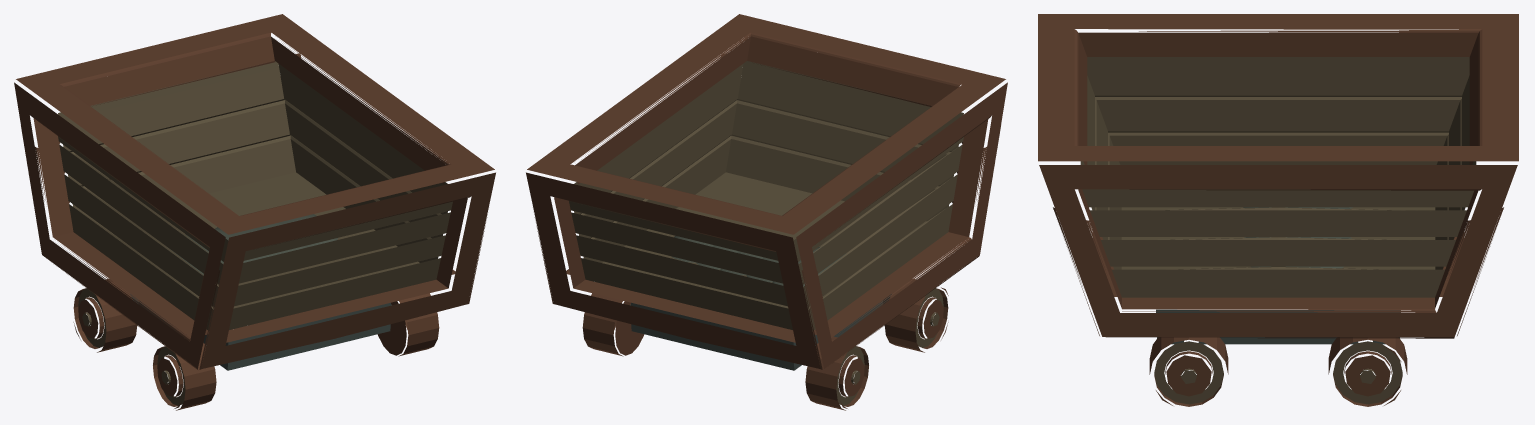
The model's file is drowned-cart.glb.
3 renders of one model, left to right at view 1: azimuth 30°, elevation 25°; view 2: azimuth 150°, elevation 25°; view 3: azimuth 270°, elevation 25°, orthographic. The views are drawn at different scales.
Parts seen in each view (by area): view 1: Surface; view 2: Surface; view 3: Surface.
Part boxes in pixels (x1=…): Surface: x1=14, y1=14, x2=495, y2=410; Surface: x1=526, y1=14, x2=1007, y2=410; Surface: x1=1038, y1=14, x2=1518, y2=406.
Bounding box in the file's own units: 0.7218 × 0.5702 × 0.9883.
